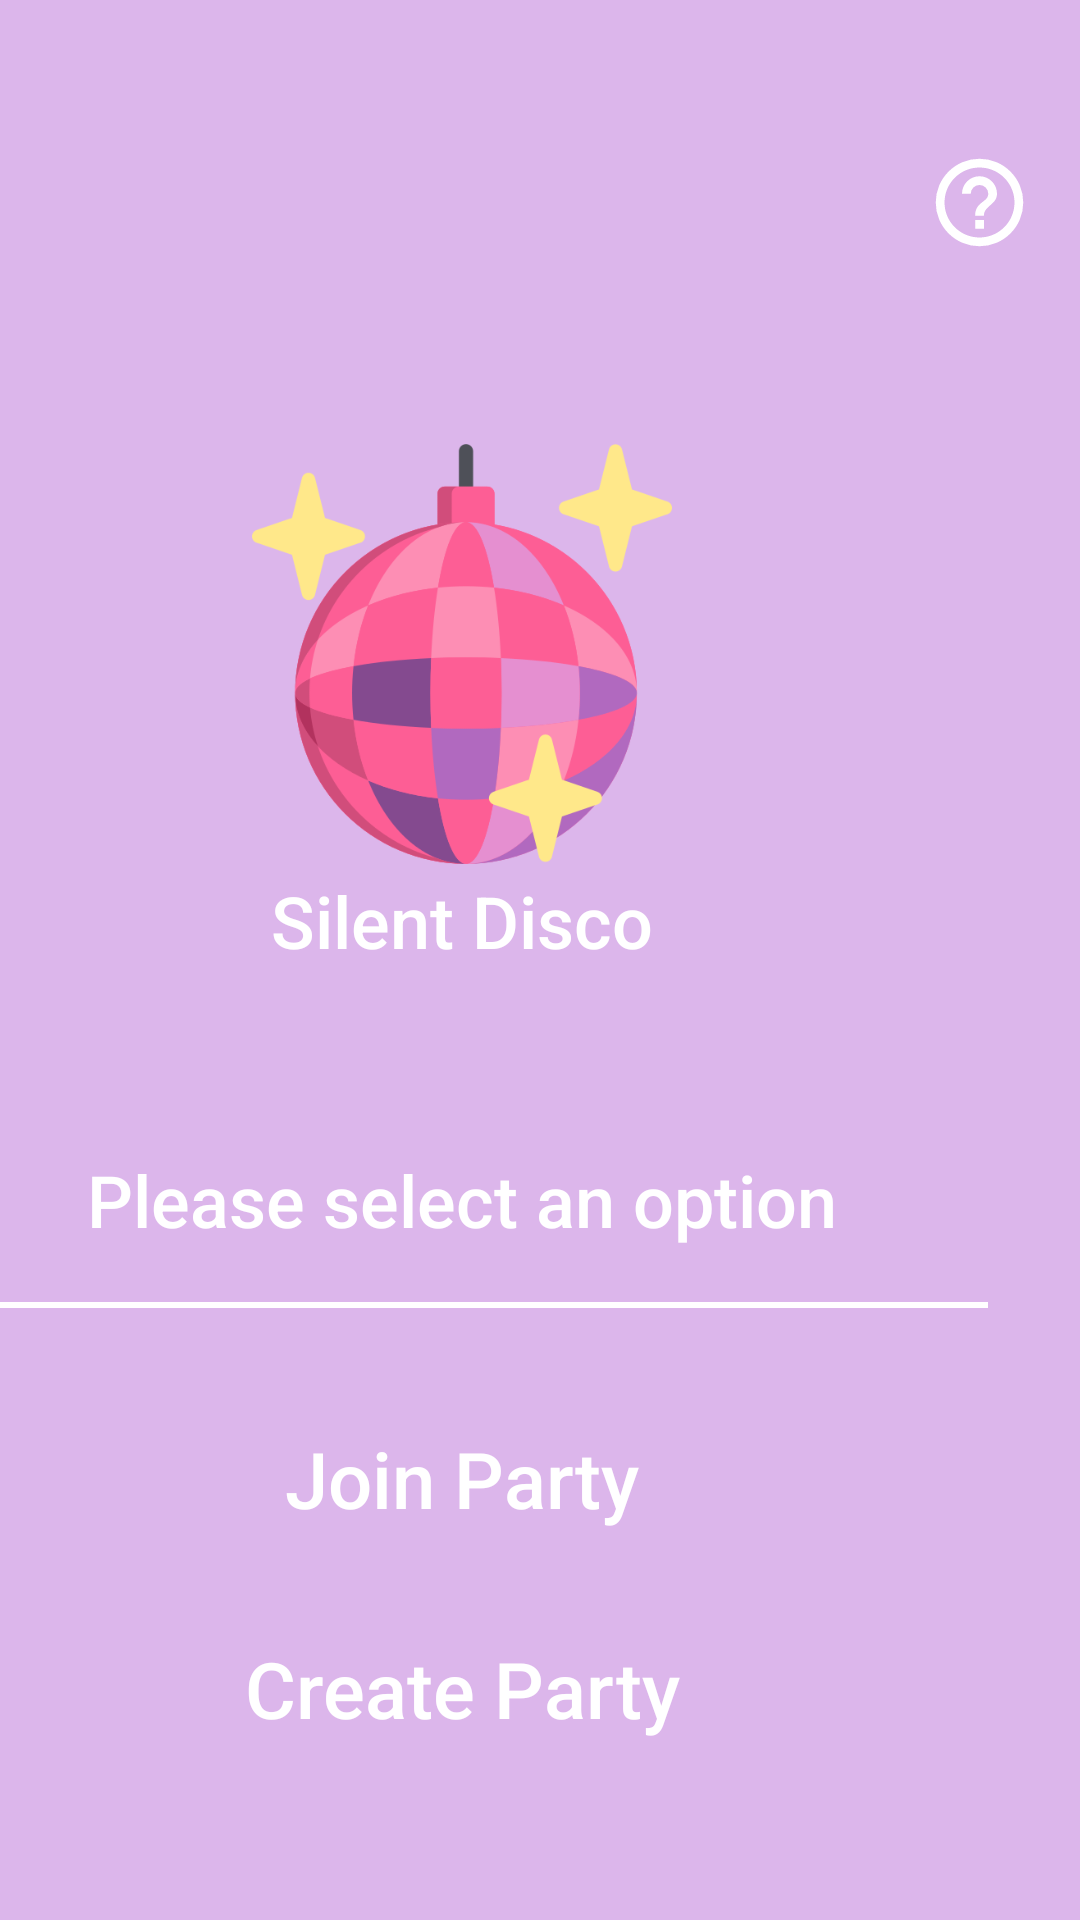

Icons on this 1080 x 1920 Android screen, each with its box as (x1, y1, x2, y2):
help: (936, 159, 1023, 246)
